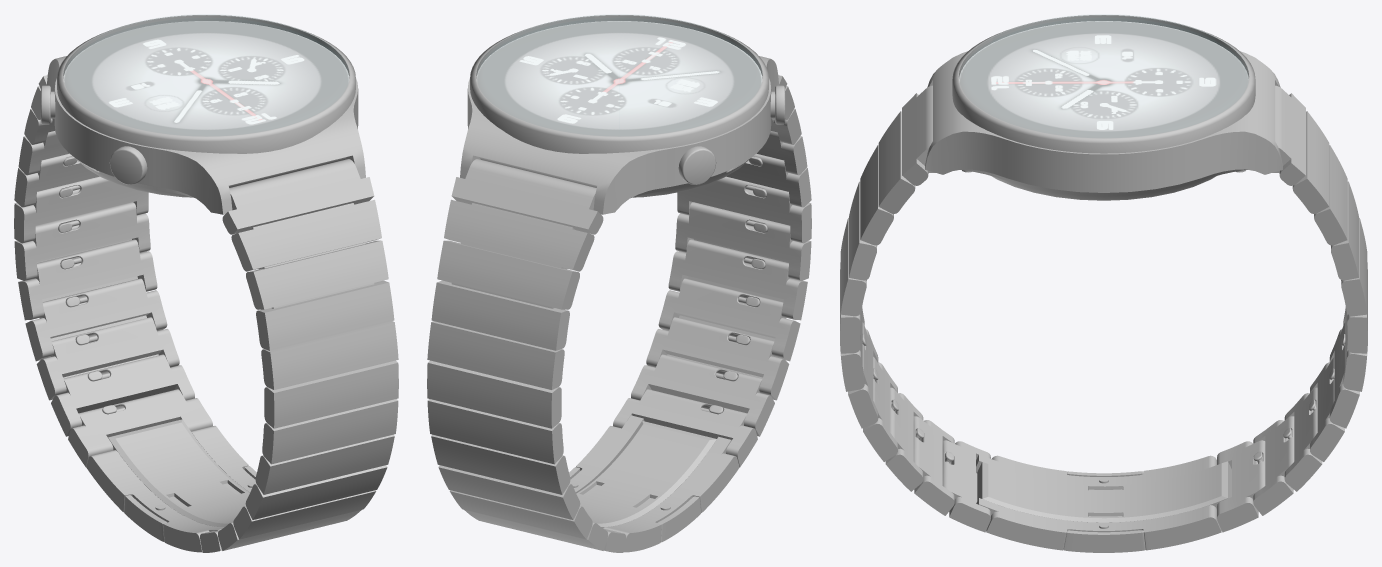
3 renders of one model, left to right at view 1: azimuth 30°, elevation 25°; view 2: azimuth 150°, elevation 25°; view 3: azimuth 270°, elevation 25°, orthographic.
Parts seen in each view (by area): view 1: huaweishoubiao_low_4, huaweishoubiao_boli_2; view 2: huaweishoubiao_low_4, huaweishoubiao_boli_2; view 3: huaweishoubiao_low_4, huaweishoubiao_boli_2.
Boxes of the visible parts, x1,y1,x2,y2 form: huaweishoubiao_low_4: [14, 15, 398, 552]; huaweishoubiao_boli_2: [66, 18, 346, 69]; huaweishoubiao_low_4: [427, 15, 811, 552]; huaweishoubiao_boli_2: [479, 18, 759, 69]; huaweishoubiao_low_4: [840, 15, 1367, 552]; huaweishoubiao_boli_2: [962, 18, 1245, 69].
Size of the model in its own units: 4.25 by 6.85 by 7.29.
